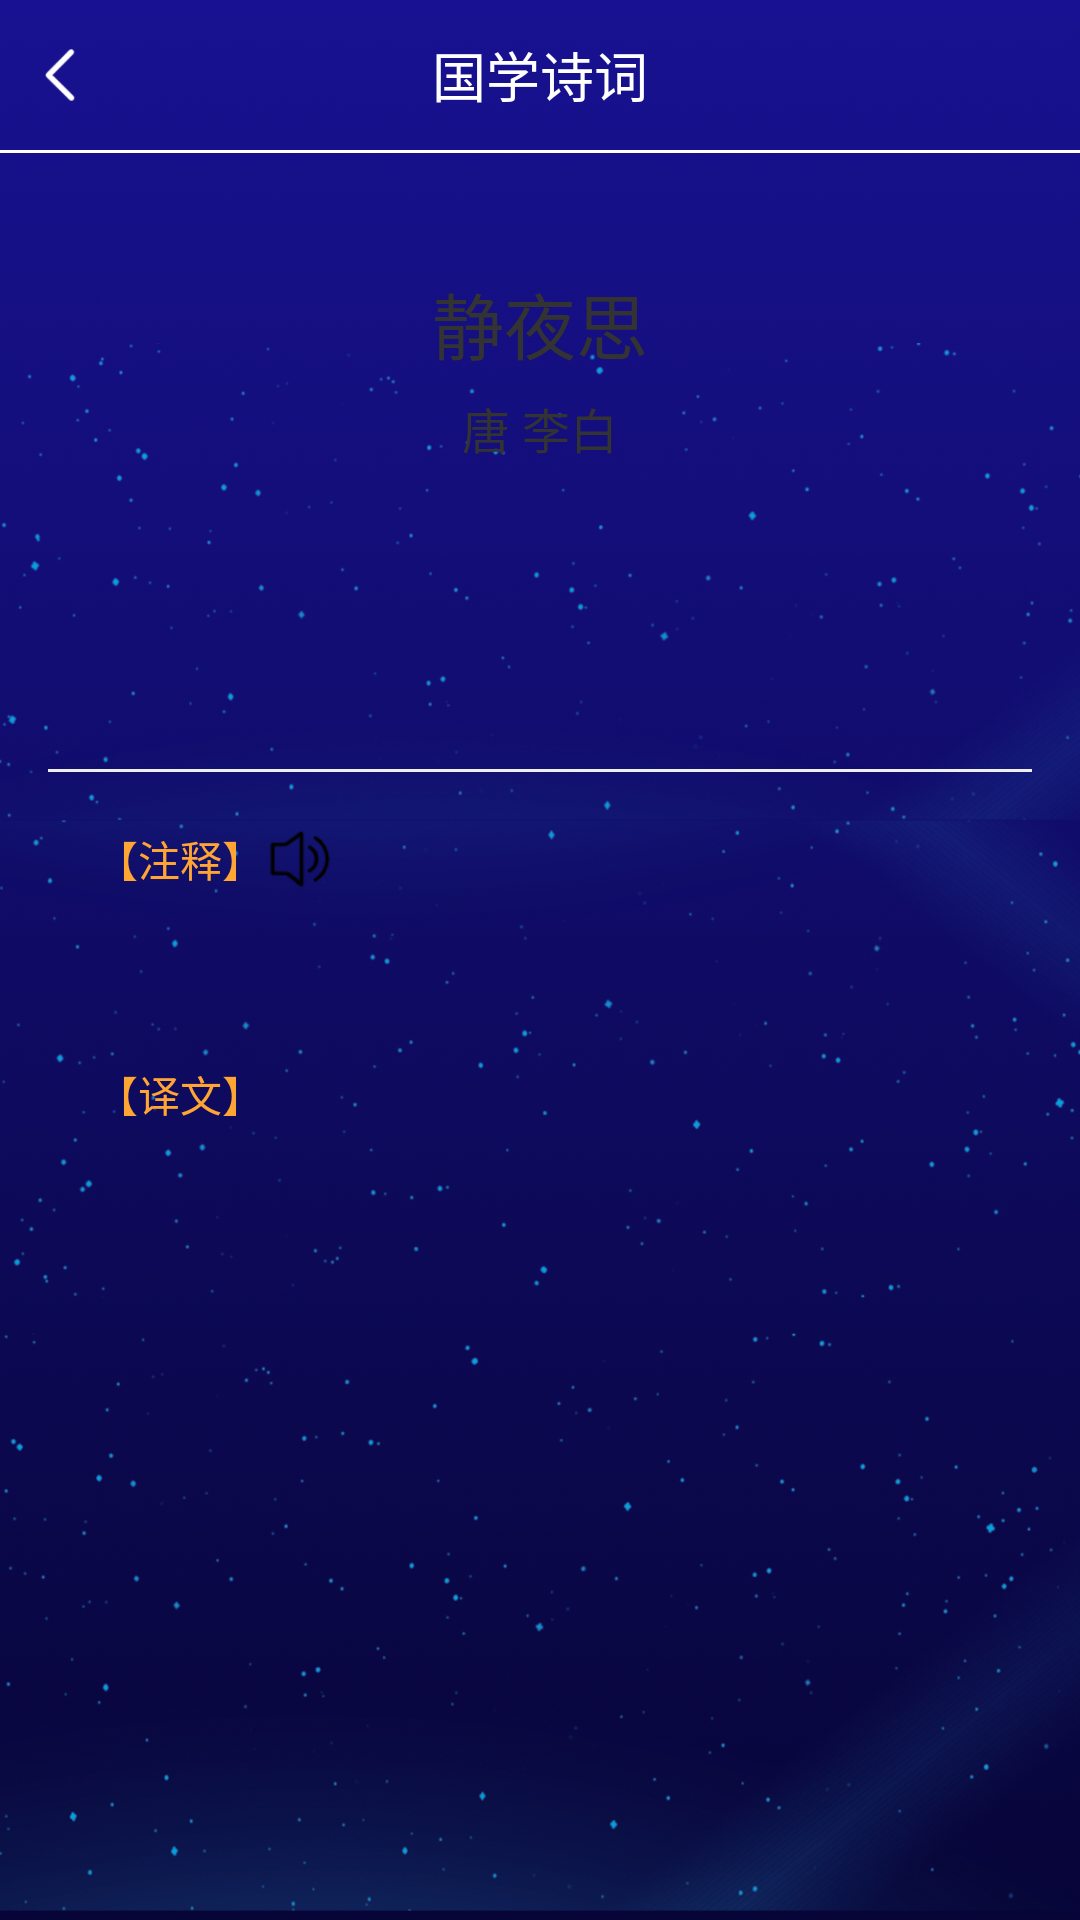

Icons on this 1080px×1920px Android screen, each with the point to tap as (x=x, y=y):
back: (x=60, y=75)
notes voice: (x=300, y=859)
